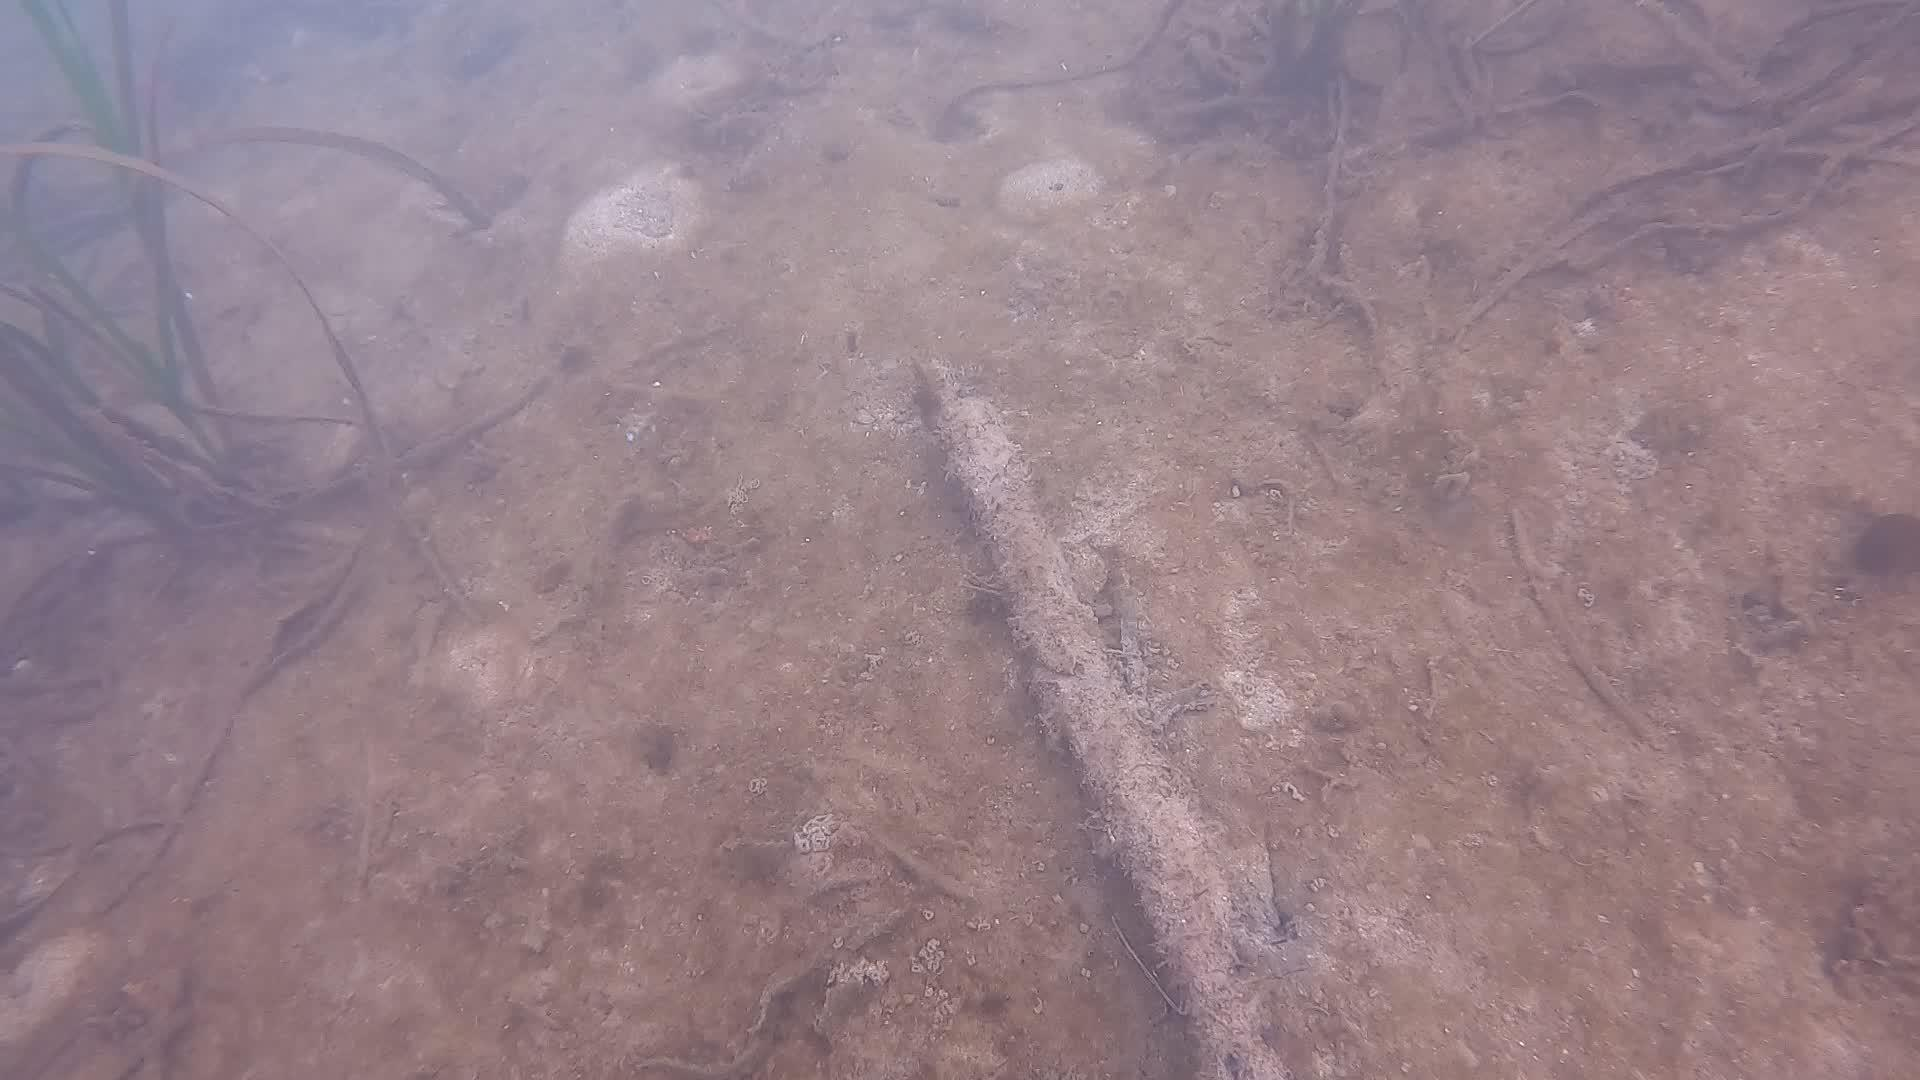wood: (930, 392, 1298, 1080)
